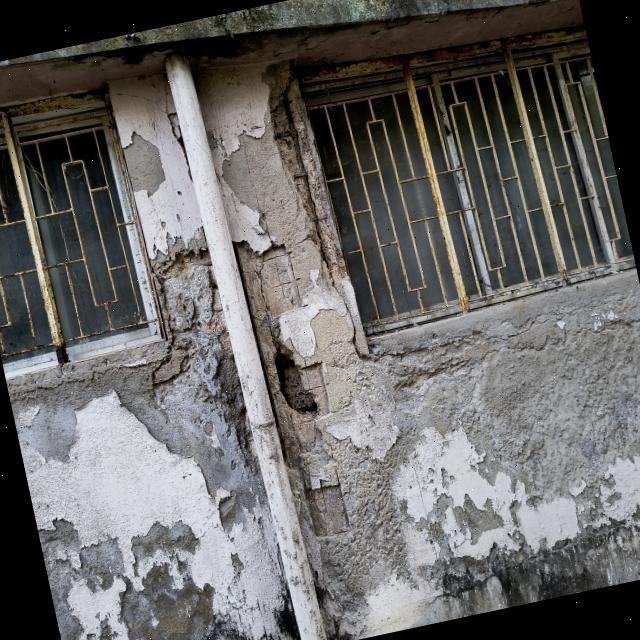Corrosion: (0, 79, 168, 375), (299, 13, 586, 88), (403, 74, 474, 315)
Corrosion stain: (296, 13, 588, 100), (137, 212, 212, 405)
Crack: (472, 0, 527, 13)
Scaling: (194, 62, 640, 640), (5, 242, 297, 640)
Spalling: (263, 59, 373, 367)
exposed brickwork: (232, 229, 354, 551)
pollution -moisture induced blackening: (41, 0, 578, 58)
